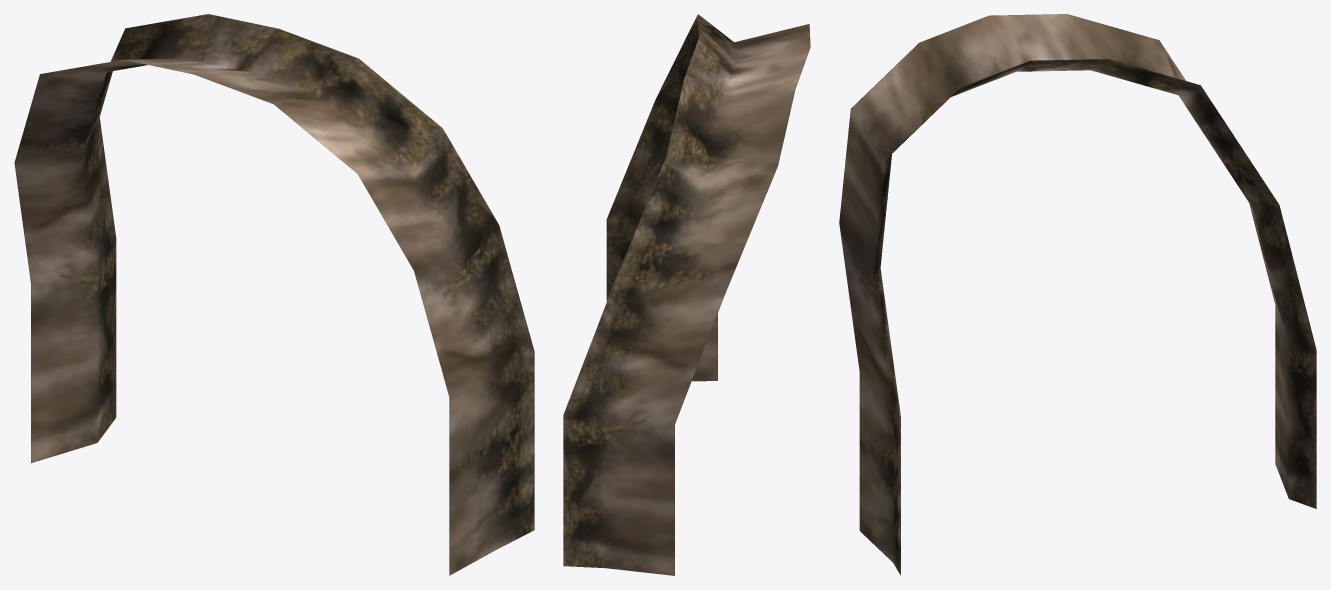
Rendered from OVERHILL_A_01_LINE66.fbx.
The picture shows the model from 3 angles, left to right: view 1: azimuth 30°, elevation 25°; view 2: azimuth 150°, elevation 25°; view 3: azimuth 270°, elevation 25°; orthographic projection. The views are drawn at different scales.
Parts seen in each view (by area): view 1: OVERHILL_A_01_LINE66; view 2: OVERHILL_A_01_LINE66; view 3: OVERHILL_A_01_LINE66.
Boxes of the visible parts, left/top/right/bottom form: OVERHILL_A_01_LINE66: left=14, top=14, right=534, bottom=575; OVERHILL_A_01_LINE66: left=563, top=14, right=810, bottom=575; OVERHILL_A_01_LINE66: left=839, top=14, right=1316, bottom=575.
Bounding box in the file's own units: 15754 × 22110 × 21079.
1 material, 1 textured.
